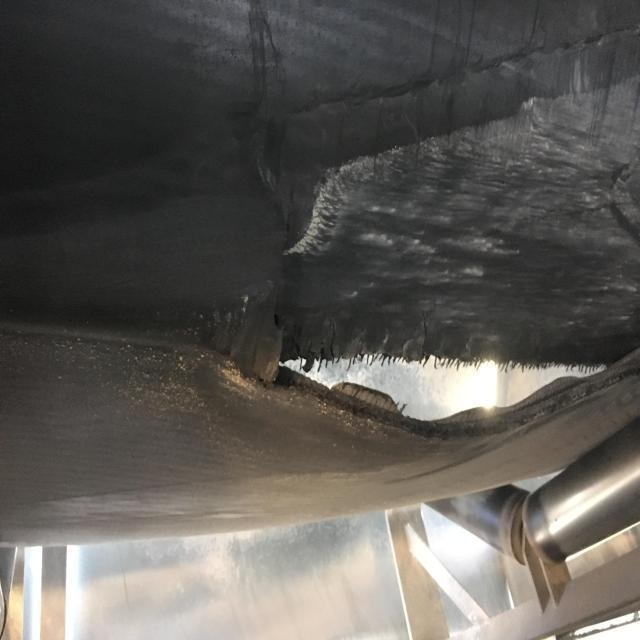Tear: (244, 332, 640, 449)
